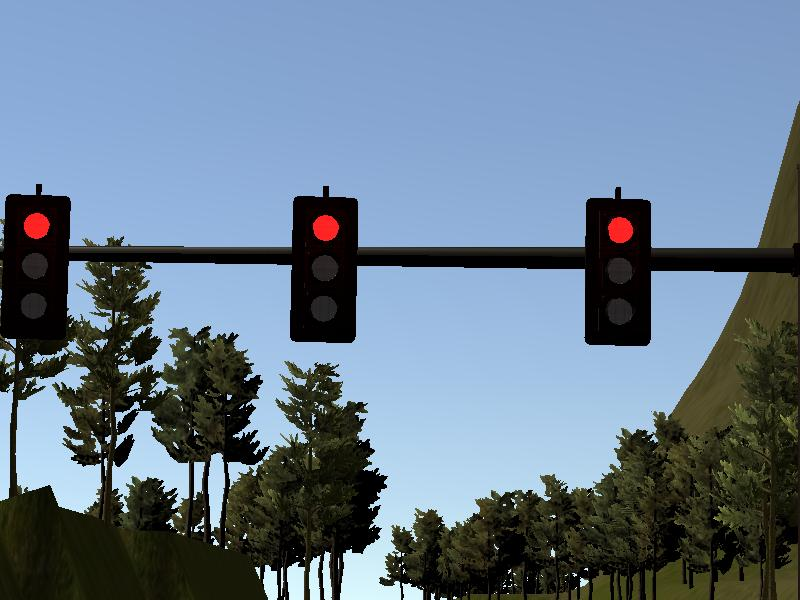red: (585, 197, 649, 345), (2, 192, 65, 341), (292, 195, 355, 344)
